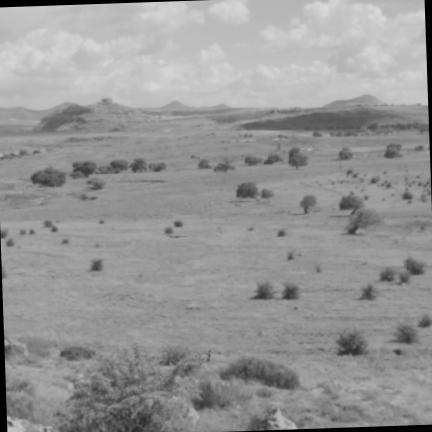Shahed: (165, 234, 190, 239)
